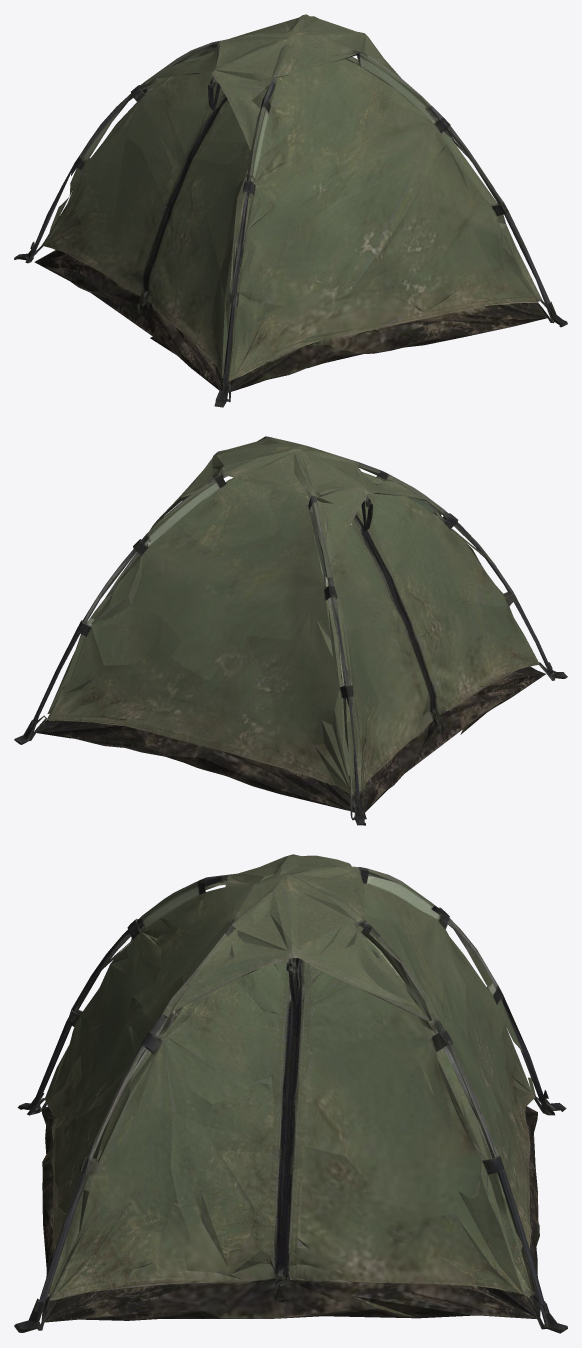
Rendered from p_tent.glb.
3 renders of one model, top to bottom at view 1: azimuth 30°, elevation 25°; view 2: azimuth 150°, elevation 25°; view 3: azimuth 270°, elevation 25°, orthographic. The views are drawn at different scales.
Parts seen in each view (by area): view 1: output_unwrapped; view 2: output_unwrapped; view 3: output_unwrapped.
Boxes of the visible parts, left/top/right/bottom form: output_unwrapped: left=14, top=14, right=567, bottom=407; output_unwrapped: left=14, top=436, right=567, bottom=825; output_unwrapped: left=14, top=854, right=567, bottom=1333.
Bounding box in the file's own units: 1.86 × 1.32 × 1.91.
Materials: 1 (1 with a texture image).
